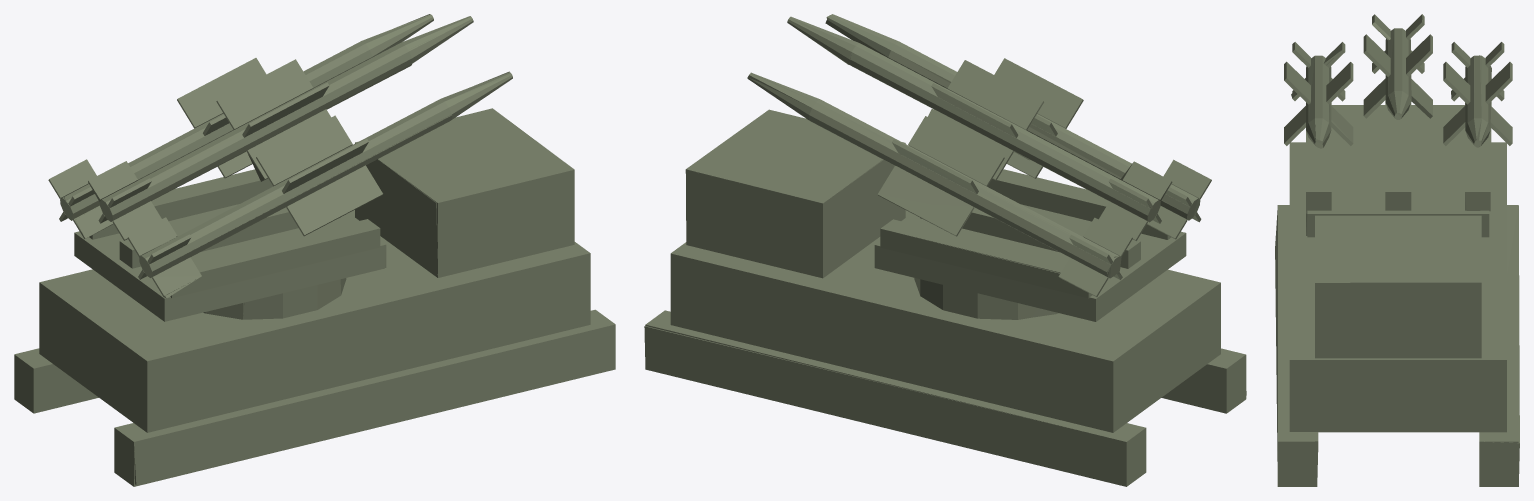
Rendered from sa6_battery.glb.
The picture shows the model from 3 angles, left to right: view 1: azimuth 30°, elevation 25°; view 2: azimuth 150°, elevation 25°; view 3: azimuth 270°, elevation 25°; orthographic projection.
Parts seen in each view (by area): view 1: sa6_battery_b, sa6_battery; view 2: sa6_battery_b, sa6_battery; view 3: sa6_battery_b, sa6_battery.
Part boxes in pixels (<box>): sa6_battery_b: <box>14,14,615,484</box>; sa6_battery: <box>19,16,574,486</box>; sa6_battery_b: <box>644,14,1246,486</box>; sa6_battery: <box>645,17,1246,441</box>; sa6_battery_b: <box>1275,14,1519,486</box>; sa6_battery: <box>1278,14,1518,486</box>.
Bounding box in the file's own units: 7.4 × 4.84 × 3.23.
